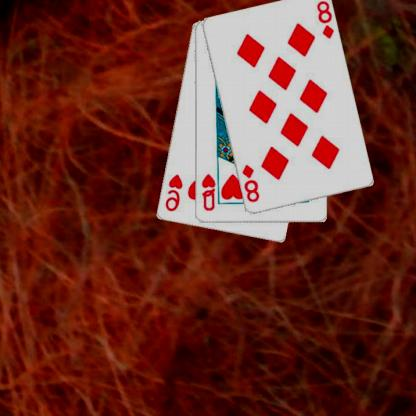8D: (241, 162, 262, 204), (316, 0, 336, 40)
9H: (164, 172, 185, 213)
QH: (200, 172, 218, 213)
